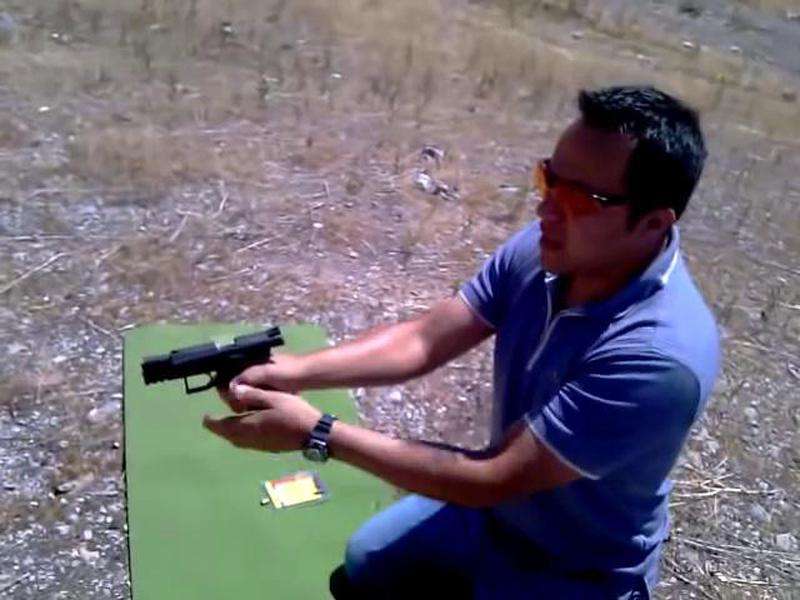Pistola: (136, 323, 311, 426)
